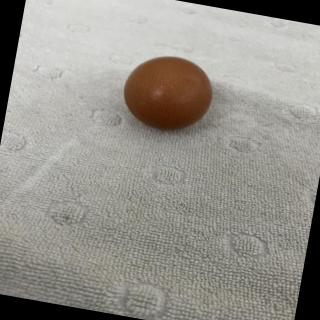Telur: (120, 47, 223, 140)
